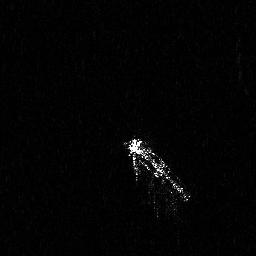ship: (122, 131, 193, 219)
